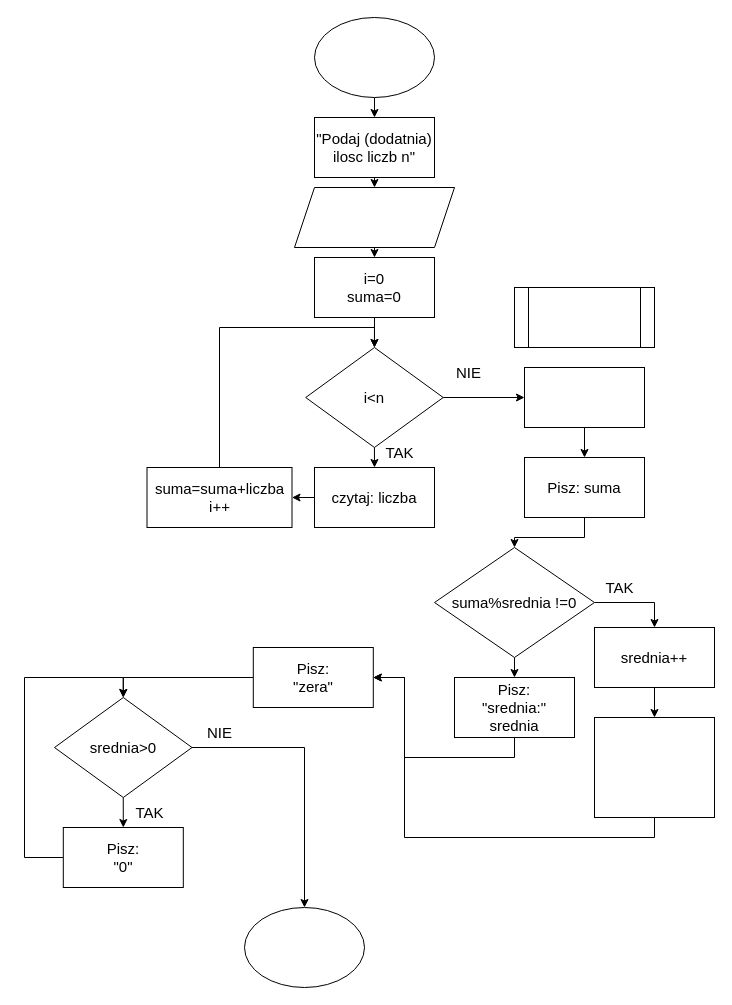
Image size: 732x1005. Some labels were removed from this diagram. The centre of each missing label's shape, as x and y in pixels:
Automatycznie zaokrąglone w doł: pixel 584 317
Czytaj: n: pixel 374 217
Pisz: "srednia (zaokraglona do gory):" srednia: pixel 654 767
srednia=suma/n: pixel 584 397
Start: pixel 374 57
Stop: pixel 304 947
